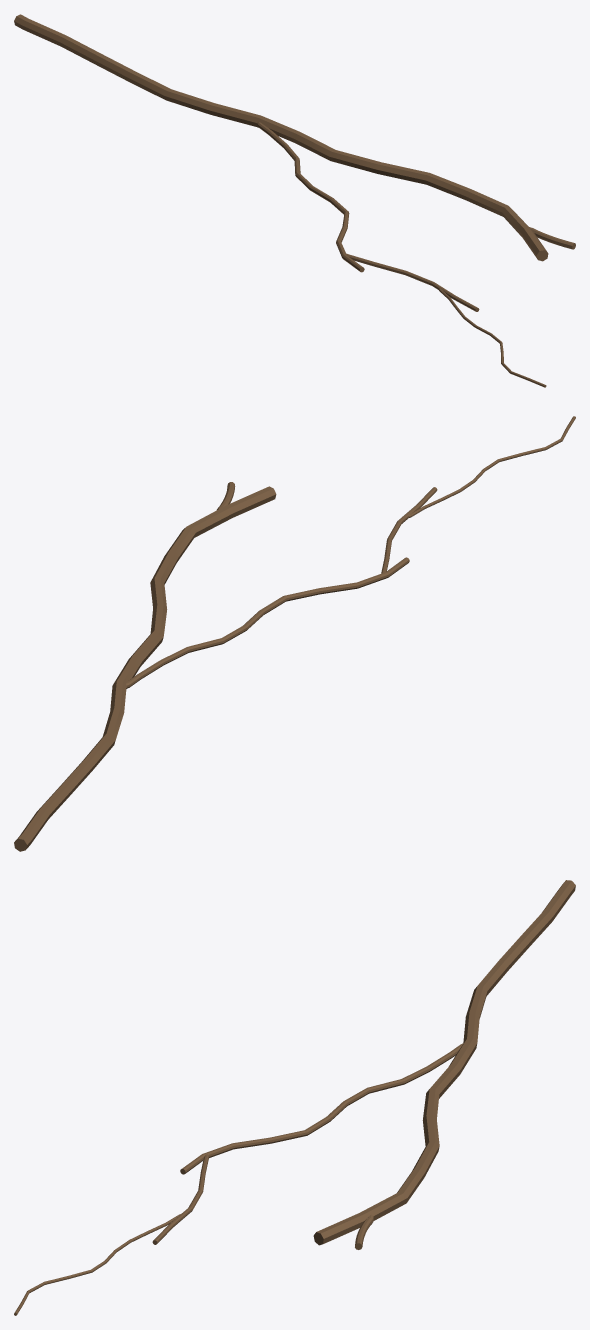
3 renders of one model, top to bottom at view 1: azimuth 30°, elevation 25°; view 2: azimuth 150°, elevation 25°; view 3: azimuth 330°, elevation 25°, orthographic. The views are drawn at different scales.
Parts seen in each view (by area): view 1: pasted__pasted__pasted__pasted__pCylinder4; view 2: pasted__pasted__pasted__pasted__pCylinder4; view 3: pasted__pasted__pasted__pasted__pCylinder4.
Part boxes in pixels (x1,y1,x2,y2): pasted__pasted__pasted__pasted__pCylinder4: (14, 14, 575, 387); pasted__pasted__pasted__pasted__pCylinder4: (14, 416, 575, 851); pasted__pasted__pasted__pasted__pCylinder4: (14, 880, 575, 1315).
Bounding box in the file's own units: 9.35 × 0.5322 × 42.54.
